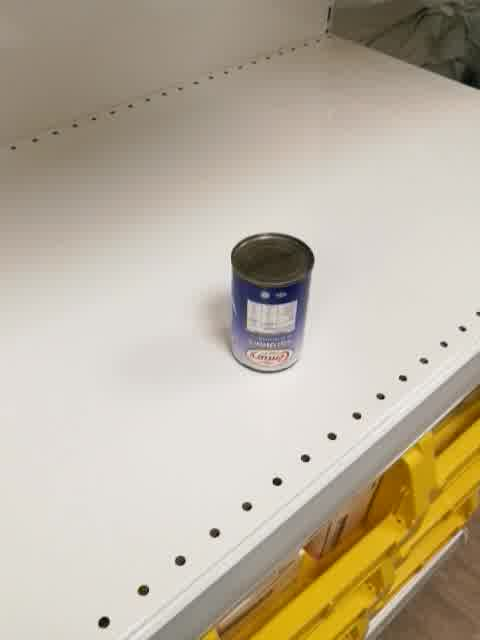sardine: (228, 233, 314, 376)
